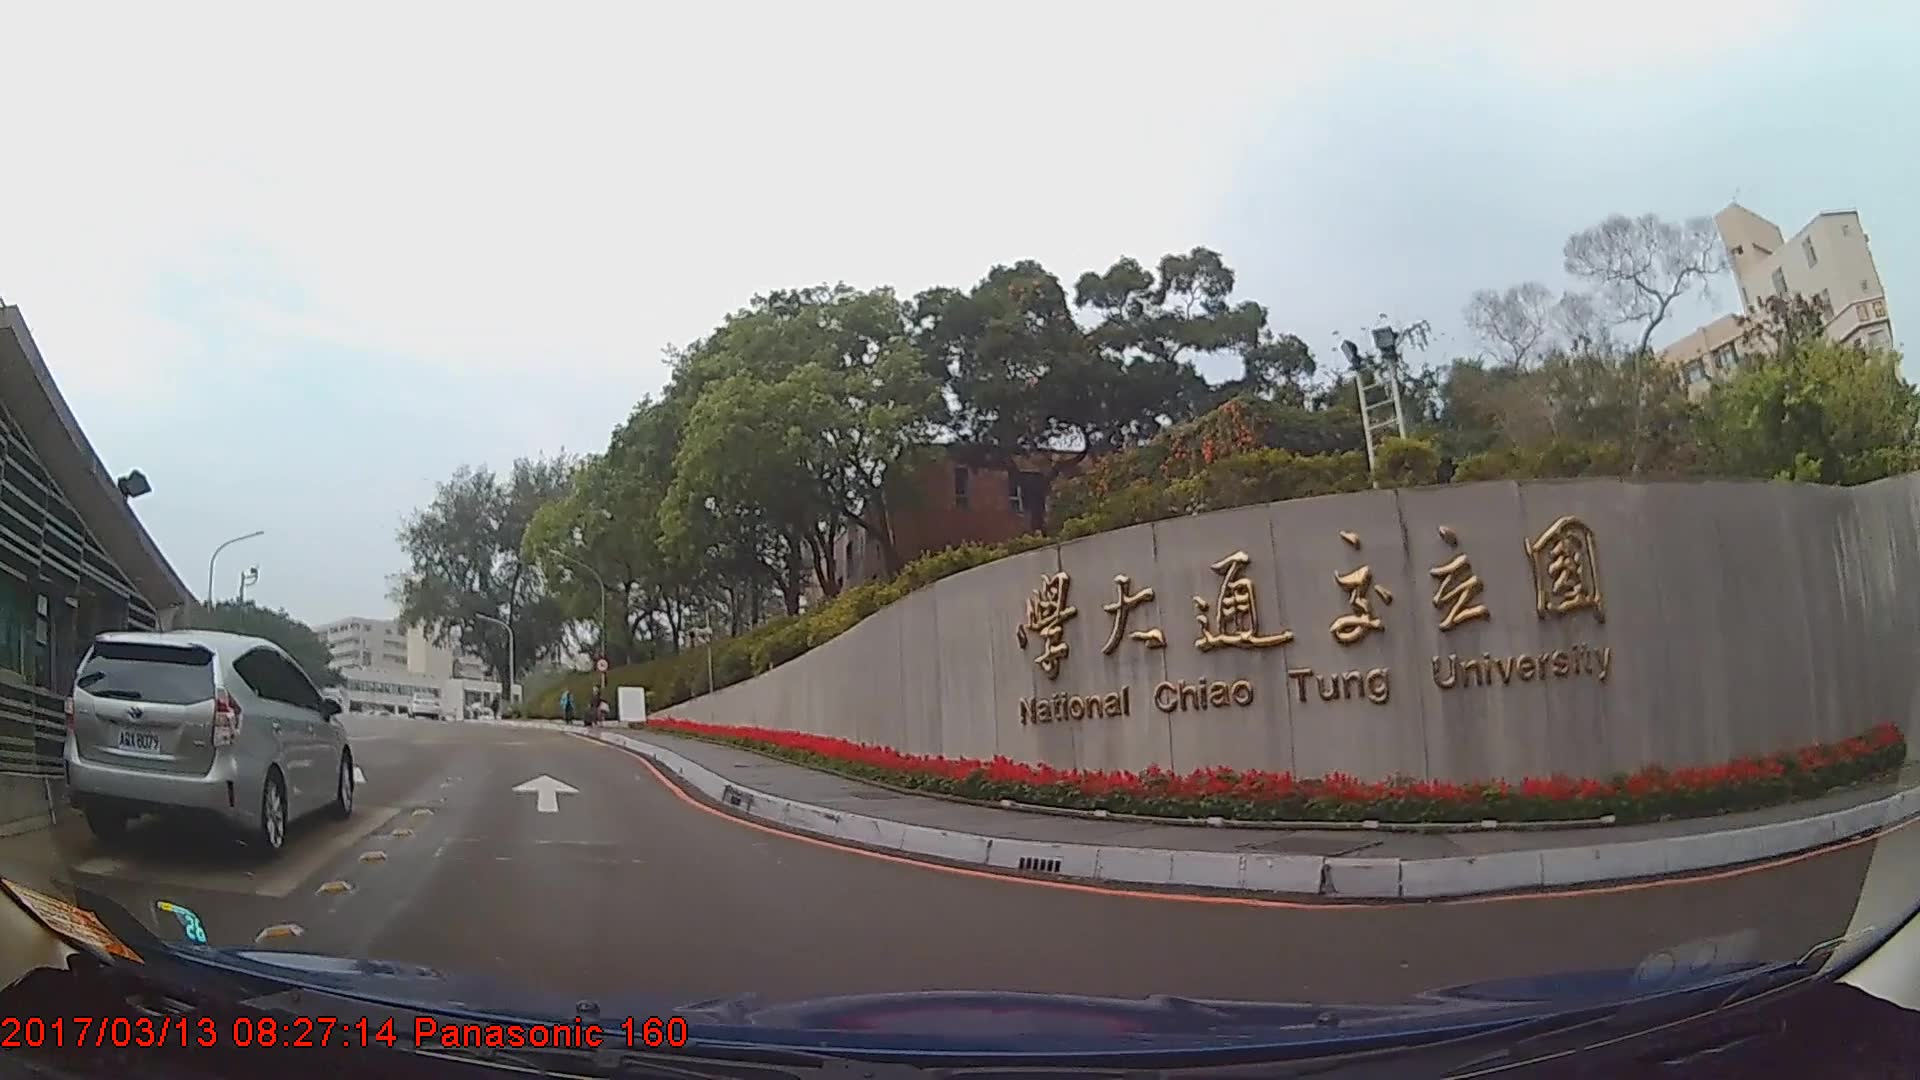vehicle: (62, 626, 353, 852), (404, 687, 438, 715)
